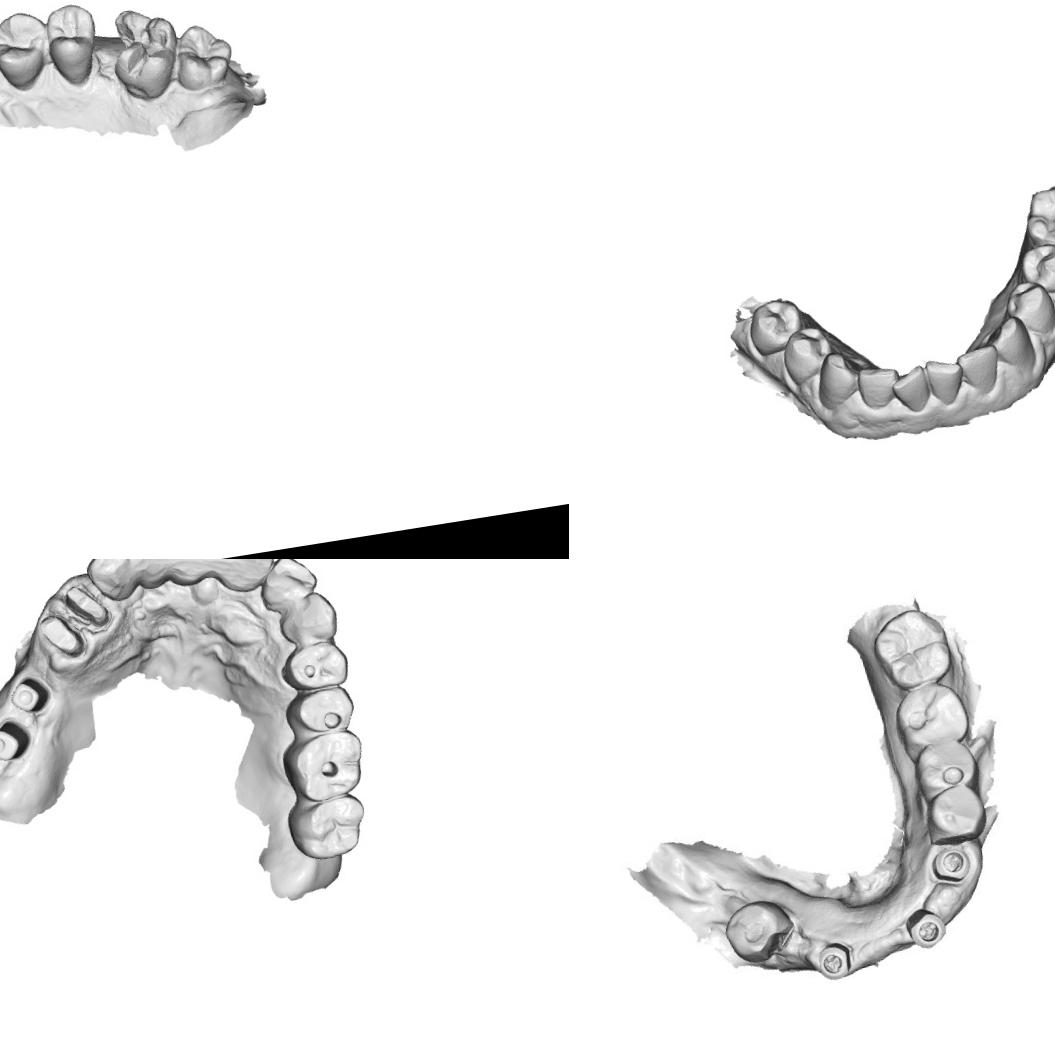abutment: (7, 674, 54, 716), (0, 717, 34, 764)
canine: (274, 588, 342, 650), (809, 345, 868, 411), (986, 312, 1040, 375), (82, 559, 137, 605)
crown: (60, 578, 116, 638), (36, 608, 90, 663)
implant: (902, 904, 949, 952), (928, 844, 972, 886), (815, 938, 855, 982)
incisor: (253, 559, 321, 615), (886, 358, 936, 420), (921, 354, 970, 412), (852, 360, 904, 414), (954, 342, 1003, 396), (211, 559, 280, 596), (162, 559, 229, 589), (120, 559, 173, 592)
molar: (100, 0, 183, 109), (867, 604, 956, 696), (888, 677, 974, 766), (278, 727, 370, 806), (284, 792, 371, 864), (167, 14, 241, 95), (1017, 178, 1055, 257)
premolar: (36, 0, 104, 92), (720, 895, 800, 968), (921, 781, 991, 850), (912, 737, 984, 804), (0, 5, 54, 91), (742, 294, 807, 362), (278, 639, 352, 695), (778, 322, 838, 390), (283, 683, 358, 737), (1002, 275, 1055, 340), (1017, 238, 1055, 301)
